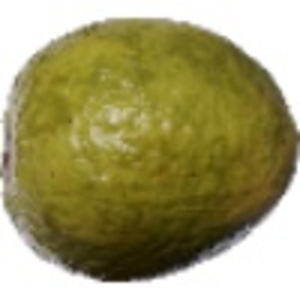goiaba: (3, 10, 296, 287)
